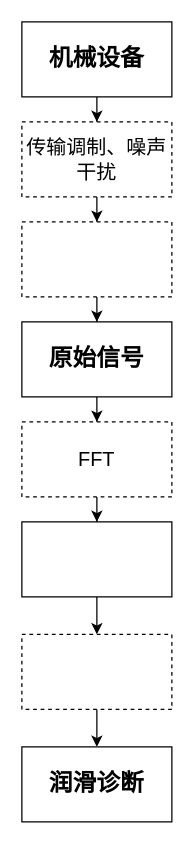
The diagram is 194 pixels wide and 844 high, and some of its shapes have lost their labels. The shapes that lost their labels are listed below. From the top down, each one's centre as x and y in pixels, then its label:
At point 96,259: "振动信号采集".
At point 96,559: "过滤后的频谱".
At point 96,671: "Pscore计算".
